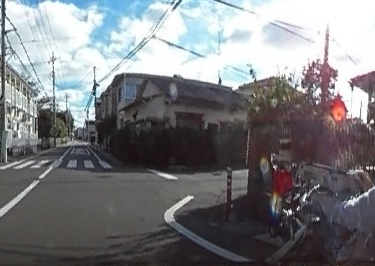person: (312, 58, 375, 263)
